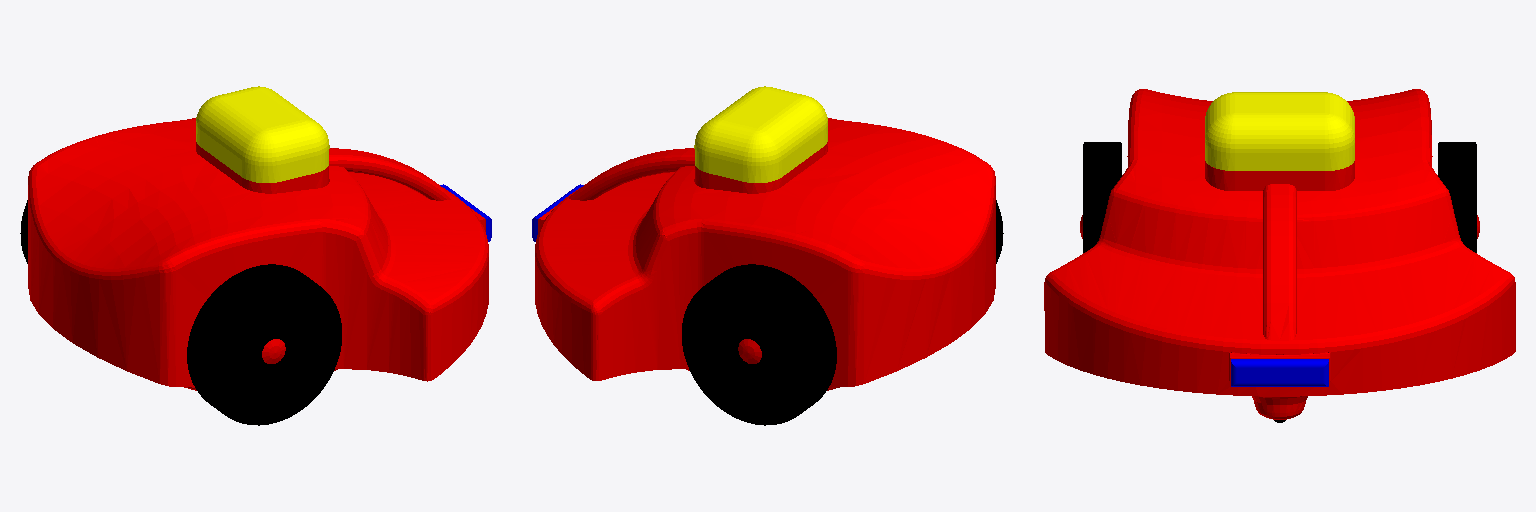
URDF robot description (differential_drive_catbot):
<!-- This is a clean version of diff_catbot.urdf conxtaining no Camera nor Laser controllers plugin -->
<robot name="differential_drive_catbot">
        <!-- This is a fictitious link, falling right below the center of mass of the robot, and acting as a projection of it on the ground.-->
        <link name="base_footprint">
                <inertial>
                        <mass value="0.0001"/>
                        <origin xyz="0 0 0"/>
                        <inertia ixx="0.0001" ixy="0.0" ixz="0.0" iyy="0.0001" iyz="0.0" izz="0.0001"/>
                </inertial>
        </link>
        <!-- Joint to connect the fictitious link to the actual chassis of the robot -->
        <joint name="base_footprint_joint" type="fixed">
                <origin rpy="0 0 -1.570796327" xyz="0 0 0.125"/>
                <parent link="base_footprint"/>
                <child link="base_link"/>
        </joint>
        <!-- Actual chassis link of the robot -->
        <link name="base_link">
                <inertial>
                        <origin xyz="0 0 0" rpy="0 0 0" />
                        <mass value="3" />
                        <inertia ixx="2.144425345253922" ixy="0" ixz="0" iyy="2.152767714510505" iyz="0" izz="0.01" />
                </inertial>
                <visual>
                        <origin xyz="0 0 0" rpy="0 0 0" />
                        <geometry>
                                <mesh filename="package://catbot_description/meshes/diff_catbot/base_link.STL" />
                        </geometry>
                        <material name="">
                                <color rgba="1 0 0 1" />
                        </material>
                </visual>
                <collision>
                        <origin xyz="0 0 0" rpy="0 0 0" />
                        <geometry>
                                <mesh filename="package://catbot_description/meshes/diff_catbot/base_link.STL" />
                        </geometry>
                </collision>
        </link>
        <!-- Right wheel link -->
        <link name="right_wheel">
                <inertial>
                        <origin xyz="0 0 -0.019494" rpy="0 0 0" />
                        <mass value="2" />
                        <inertia ixx="0.00017099" ixy="0" ixz="0" iyy="0.00017099" iyz="0" izz="0.00031986" />
                </inertial>
                <visual>
                        <origin xyz="0 0 0" rpy="0 0 0" />
                        <geometry>
                                <mesh filename="package://catbot_description/meshes/diff_catbot/right_wheel.STL" />
                        </geometry>
                        <material name="">
                                <color rgba="0 0 0 1" />
                        </material>
                </visual>
                <collision>
                        <origin xyz="0 0 0" rpy="0 0 0" />
                        <geometry>
                                <mesh filename="package://catbot_description/meshes/diff_catbot/right_wheel.STL" />
                        </geometry>
                </collision>
        </link>
        <!-- Right wheel joint, this joint is commanded with velocity to cause the wheel to rotate -->
        <joint name="right_motor" type="continuous">
                <origin xyz="0.15697 -0.073269 -0.041165" rpy="1.5708 0 -1.5708" />
                <parent link="base_link" />
                <child link="right_wheel" />
                <axis xyz="0 0 1" />
                <limit effort="10000" velocity="100" />
                <dynamics damping="0" friction="0" />
        </joint>
        <!-- Left wheel link -->
        <link name="left_wheel">
                <inertial>
                        <origin xyz="0 0 0.019494" rpy="0 0 0" />
                        <mass value="2" />
                        <inertia ixx="0.00017099" ixy="0" ixz="0" iyy="0.00017099" iyz="0" izz="0.00031986" />
                </inertial>
                <visual>
                        <origin xyz="0 0 0" rpy="0 0 0" />
                        <geometry>
                                <mesh filename="package://catbot_description/meshes/diff_catbot/left_wheel.STL" />
                        </geometry>
                        <material name="">
                                <color rgba="0 0 0 1" />
                        </material>
                </visual>
                <collision>
                        <origin xyz="0 0 0" rpy="0 0 0" />
                        <geometry>
                                <mesh filename="package://catbot_description/meshes/diff_catbot/left_wheel.STL" />
                        </geometry>
                </collision>
        </link>
        <!-- Left wheel joint, this joint is commanded with velocity to cause the wheel to rotate -->
        <joint name="left_motor" type="continuous">
                <origin xyz="-0.15697 -0.073269 -0.041165" rpy="1.5708 0 -1.5708" />
                <parent link="base_link" />
                <child link="left_wheel" />
                <axis xyz="0 0 1" />
                <limit effort="10000" velocity="100" />
                <dynamics damping="0" friction="0" />
        </joint>
        <!-- Caster Wheel Joint and Link -->
        <joint name="ball_and_socket" type="fixed">
                <origin xyz="0 0.20508 -0.11627" rpy="1.5708 0 -1.5708" />
                <parent link="base_link" />
                <child link="caster_wheel" />
        </joint>
        <link name="caster_wheel">
                <inertial>
                        <origin xyz="0 0 0" rpy="0 0 0" />
                        <mass value="0.0035914" />
                        <inertia ixx="1.2965E-07" ixy="0" ixz="0" iyy="1.2965E-07" iyz="0" izz="1.2965E-07" />
                </inertial>
                <visual>
                        <origin xyz="0 0 0" rpy="0 0 0" />
                        <geometry>
                                <mesh filename="package://catbot_description/meshes/diff_catbot/caster_wheel.STL" />
                        </geometry>
                        <material name="">
                                <color rgba="0 0 0 1" />
                        </material>
                </visual>
                <collision>
                        <origin xyz="0 0 0" rpy="0 0 0" />
                        <geometry>
                                <mesh filename="package://catbot_description/meshes/diff_catbot/caster_wheel.STL" />
                        </geometry>
                </collision>
        </link>
        <!-- Camera Link -->
        <link name="camera">
                <inertial>
                        <origin xyz="0 0 0" rpy="0 0 0" />
                        <mass value="0.028578" />
                        <inertia ixx="2.1737E-05" ixy="0" ixz="0" iyy="2.037E-06" iyz="0" izz="2.0659E-05" />
                </inertial>
                <visual>
                        <origin xyz="0 0 0" rpy="0 -1.570796327 1.570796327" />
                        <geometry>
                                <mesh filename="package://catbot_description/meshes/diff_catbot/camera.STL" />
                        </geometry>
                        <material name="">
                                <color rgba="0 0 1 1" />
                        </material>
                </visual>
                <collision>
                        <origin xyz="0 0 0" rpy="0 -1.570796327 1.570796327" />
                        <geometry>
                                <mesh filename="package://catbot_description/meshes/diff_catbot/camera.STL" />
                        </geometry>
                </collision>
        </link>
        <!-- Camera Joint to connect the camera to the chassis -->
        <joint name="camera_joint" type="fixed">
                <origin xyz="0.27409 0 0.085281" rpy="-1.570796327 0 -1.570796327" />
                <parent link="base_footprint" />
                <child link="camera" />
        </joint>
        <!-- Laser Scanner Link -->
        <link name="laser_scanner">
                <inertial>
                        <origin xyz="0 0 0" rpy="0 0 0" />
                        <mass value="0.6525" />
                        <inertia ixx="0.0011739" ixy="0" ixz="0" iyy="0.00060212" iyz="0" izz="0.0015305" />
                </inertial>
                <visual>
                        <origin xyz="0 0 0" rpy="0 0 0" />
                        <geometry>
                                <mesh filename="package://catbot_description/meshes/diff_catbot/laser_scanner.STL" />
                        </geometry>
                        <material name="">
                                <color rgba="1 1 0 1" />
                        </material>
                </visual>
                <collision>
                        <origin xyz="0 0 0" rpy="0 0 0" />
                        <geometry>
                                <mesh filename="package://catbot_description/meshes/diff_catbot/laser_scanner.STL" />
                        </geometry>
                </collision>
        </link>
        <!-- Laser Scanner Joint to connect the laser scanner to the chassis -->
        <joint name="laser_scanner_joint" type="fixed">
                <origin xyz="0 0.026147 0.11309" rpy="0 0 1.5708" />
                <parent link="base_link" />
                <child link="laser_scanner" />
        </joint>
        <!-- Transmissions are important for abstracting the connection between urdf model joints and actuators (wheter simulated or actual) -->
        <!-- Left wheel transmission -->
        <transmission name="left_motor_transmission">
                <type>transmission_interface/SimpleTransmission</type>
                <joint name="left_motor">
                        <hardwareInterface>VelocityJointInterface</hardwareInterface>
                </joint>
                <actuator name="left_joint_motor">
                        <hardwareInterface>VelocityJointInterface</hardwareInterface>
                        <mechanicalReduction>1</mechanicalReduction>
                </actuator>
        </transmission>
        <!-- Right wheel transmission -->
        <transmission name="right_motor_transmission">
                <type>transmission_interface/SimpleTransmission</type>
                <joint name="right_motor">
                        <hardwareInterface>VelocityJointInterface</hardwareInterface>
                </joint>
                <actuator name="right_joint_motor">
                        <hardwareInterface>VelocityJointInterface</hardwareInterface>
                        <mechanicalReduction>1</mechanicalReduction>
                </actuator>
        </transmission>
        <!-- gazebo tag is used to add simulation properties to a URDF file -->
        <gazebo reference="base_footprint">
                <turnGravityOff>false</turnGravityOff>
        </gazebo>

        <gazebo reference="left_wheel">
                <mu1 value="1"/>
                <mu2 value="1"/>
                <kp  value="1000000.0" />
                <kd  value="100.0" />
                <fdir1 value="1 0 0"/>
                <material>Gazebo/Black</material>
                <turnGravityOff>false</turnGravityOff>
                <dampingFactor>0.005</dampingFactor>    <!-- Link velocity damping factor -->
        </gazebo>

        <gazebo reference="right_wheel">
                <mu1 value="1"/>
                <mu2 value="1"/>
                <kp  value="1000000.0" />
                <kd  value="100.0" />
                <fdir1 value="1 0 0"/>
                <material>Gazebo/Black</material>
                <turnGravityOff>false</turnGravityOff>
                <dampingFactor>0.005</dampingFactor>    <!-- Link velocity damping factor -->
        </gazebo>
        <gazebo reference="base_link">
                <material>Gazebo/Red </material>
        </gazebo>
        <gazebo reference="caster_wheel">
                <mu1 value="0"/>
                <mu2 value="0"/>
                <fdir1 value="1 0 0"/>
                <material>Gazebo/Red </material>
                <dampingFactor>0.01</dampingFactor>
        </gazebo>
        <gazebo reference="camera">
                <material> Gazebo/Blue </material>
        </gazebo>
        <gazebo reference="laser_scanner">
                <material> Gazebo/Yellow </material>
        </gazebo>

        <gazebo><!-- Loading gazebo-differential_drive plugin to control the vehicle using velocity commands -->
            <plugin name="differential_drive_controller" filename="libgazebo_ros_diff_drive.so">
                    <alwaysOn>true</alwaysOn>
                    <robotNamespace>catbot</robotNamespace>
                    <updateRate>20</updateRate>
                    <publishTf>true</publishTf>
                    <leftJoint>left_motor</leftJoint>
                    <rightJoint>right_motor</rightJoint>
                    <wheelSeparation>0.32</wheelSeparation>
                    <publishWheelTF>true</publishWheelTF>
                    <publishWheelJointState>true</publishWheelJointState>
                    <legacyMode>false</legacyMode>
                    <wheelAcceleration>9</wheelAcceleration>
                    <wheelDiameter>0.92</wheelDiameter>
                    <wheelTorque>30</wheelTorque>
                    <odometrySource>encoder</odometrySource>
                    <commandTopic>velocity_command</commandTopic>
                    <odometryTopic>odometry</odometryTopic>
                    <odometryFrame>odometry_frame</odometryFrame>
                    <robotBaseFrame>base_footprint</robotBaseFrame>
            </plugin>
        </gazebo>
        <gazebo reference = "camera" >
                <sensor type="multicamera" name = "front_camera">
                        <update_rate>20.0</update_rate>
                        <camera name="right">
                                <pose> 0 -0.1 0 0 -1.570796327 1.570796327</pose>
                                <horizontal_fov>1.396</horizontal_fov>
                                <image>
                                        <width>860</width>
                                        <height>640</height>
                                        <format>R8G8B8</format>
                                </image>
                                <clip>
                                        <near>0.02</near>
                                        <far>300</far>
                                </clip>
                                <noise>
                                        <type>gaussian</type>
                                        <mean>0.0</mean>
                                        <stddev>0.007</stddev>
                                </noise>
                        </camera>
                        <camera name="left">
                                <pose> 0 0.1 0 0 -1.570796327 1.570796327</pose>
                                <horizontal_fov>1.396</horizontal_fov>
                                <image>
                                        <width>860</width>
                                        <height>640</height>
                                        <format>R8G8B8</format>
                                </image>
                                <clip>
                                        <near>0.02</near>
                                        <far>60</far>
                                </clip>
                                <noise>
                                        <type>gaussian</type>
                                        <mean>0.0</mean>
                                        <stddev>0.007</stddev>
                                </noise>
                        </camera>
                        <plugin name="stereo_camera_controller" filename="libgazebo_ros_multicamera.so">
                                <alwaysOn>true</alwaysOn>
                                <robotNamespace>catbot</robotNamespace>
                                <cameraName>front_camera</cameraName>
                                <imageTopicName>image_raw</imageTopicName>
                                <cameraInfoTopicName>camera_info</cameraInfoTopicName>
                                <frameName>camera</frameName>
                                <hackBaseline>0.20</hackBaseline>
                                <distortionK1>0.00</distortionK1>
                                <distortionK2>0.00</distortionK2>
                                <distortionK3>0.00</distortionK3>
                                <distortionT1>0.00</distortionT1>
                                <distortionT2>0.00</distortionT2>
                        </plugin>
                </sensor>
        </gazebo>

        <gazebo reference="laser_scanner">
                <sensor type="ray" name="head_hokuyo_sensor">
                        <pose>0 0 0 0 0 0</pose>
                        <visualize>false</visualize>
                        <update_rate>20.0</update_rate>
                        <ray>
                                <scan>
                                        <horizontal>
                                                <samples>36</samples>
                                                <resolution>10</resolution>
                                                <min_angle>-1.570796</min_angle>
                                                <max_angle> 1.570796</max_angle>
                                        </horizontal>
                                </scan>
                                <range>
                                        <min>0.1</min>
                                        <max>10.0</max>
                                        <resolution>0.01</resolution>
                                </range>
                                <noise>
                                        <type>gaussian</type>
                                        <mean>0.0</mean>
                                        <stddev>0.01</stddev>
                                </noise>
                        </ray>
                        <plugin name="gazebo_ros_head_hokuyo_controller" filename="libgazebo_ros_laser.so">
                                <robotNamespace>catbot</robotNamespace>
                                <topicName>laser/scan</topicName>
                                <frameName>laser_scanner</frameName>
                        </plugin>
                </sensor>
        </gazebo>

        <gazebo>
	    <plugin name="imu_controller" filename="libhector_gazebo_ros_imu.so">
                <alwaysOn>true</alwaysOn>
                <robotNamespace>catbot</robotNamespace>
		<updateRate>100.0</updateRate>
                <bodyName>base_footprint</bodyName>
                <topicName>imu_data</topicName>
		<accelGaussianNoise>0 0 0</accelGaussianNoise>
		<rateGaussianNoise>0 0 0</rateGaussianNoise>
            </plugin>
        </gazebo>
</robot>

--- Facts derived from the render (not from the file) ---
3 views of the same robot in one strip: view 1: azimuth 30°, elevation 25°; view 2: azimuth 150°, elevation 25°; view 3: azimuth 270°, elevation 25° (orthographic).
Model differential_drive_catbot with 7 links and 6 joints (2 continuous, 4 fixed), rooted at base_footprint, posed all joints at 0.
Links seen in each view (by area): view 1: base_link, right_wheel, laser_scanner; view 2: base_link, left_wheel, laser_scanner; view 3: base_link, laser_scanner, right_wheel, left_wheel, camera.
Boxes of the visible links, x1=… form: base_link: x1=28, y1=118, x2=488, y2=390; right_wheel: x1=187, y1=264, x2=341, y2=425; laser_scanner: x1=196, y1=86, x2=329, y2=182; base_link: x1=535, y1=118, x2=995, y2=390; left_wheel: x1=682, y1=264, x2=836, y2=425; laser_scanner: x1=694, y1=86, x2=827, y2=182; base_link: x1=1044, y1=89, x2=1515, y2=419; laser_scanner: x1=1205, y1=92, x2=1354, y2=170; right_wheel: x1=1083, y1=142, x2=1121, y2=252; left_wheel: x1=1438, y1=142, x2=1476, y2=252; camera: x1=1231, y1=359, x2=1328, y2=386.
Bounding box of the posed robot: 0.4995 × 0.4694 × 0.2666 m (x, y, z).
Meshes: 6 distinct files referenced, 6 mesh visuals loaded (6 binary STL).
